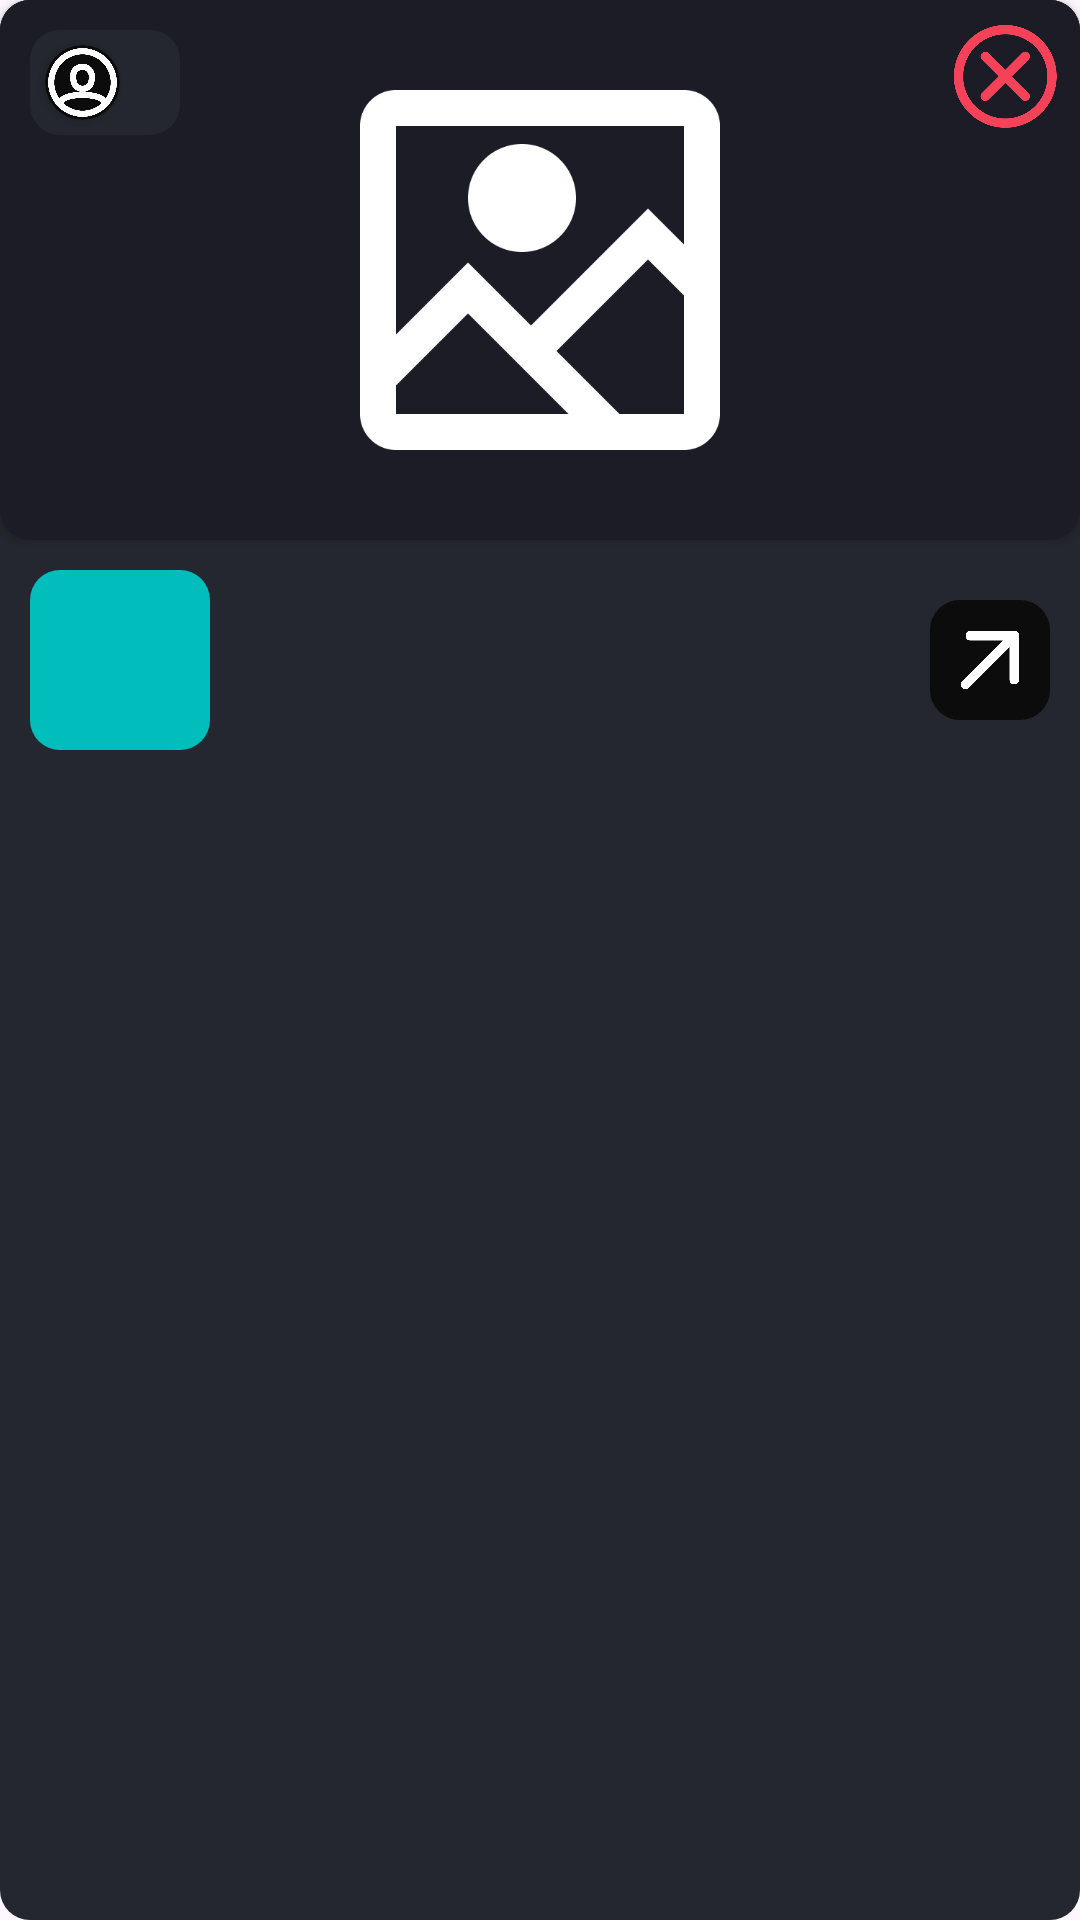

Where icons sit on this 1080×1920 app screen, as BBox(x1, y1, x2, y2):
arrow: BBox(930, 600, 1050, 720)
delete: BBox(954, 25, 1057, 128)
user: BBox(45, 45, 120, 120)
